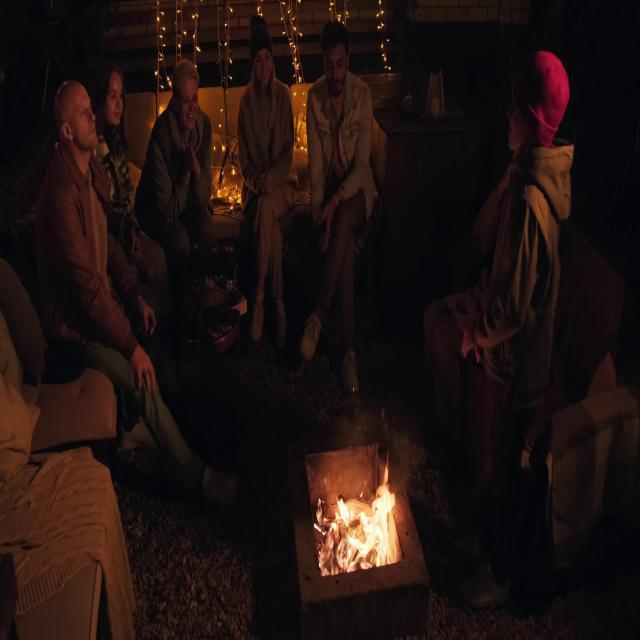Fire: (328, 468, 398, 571)
